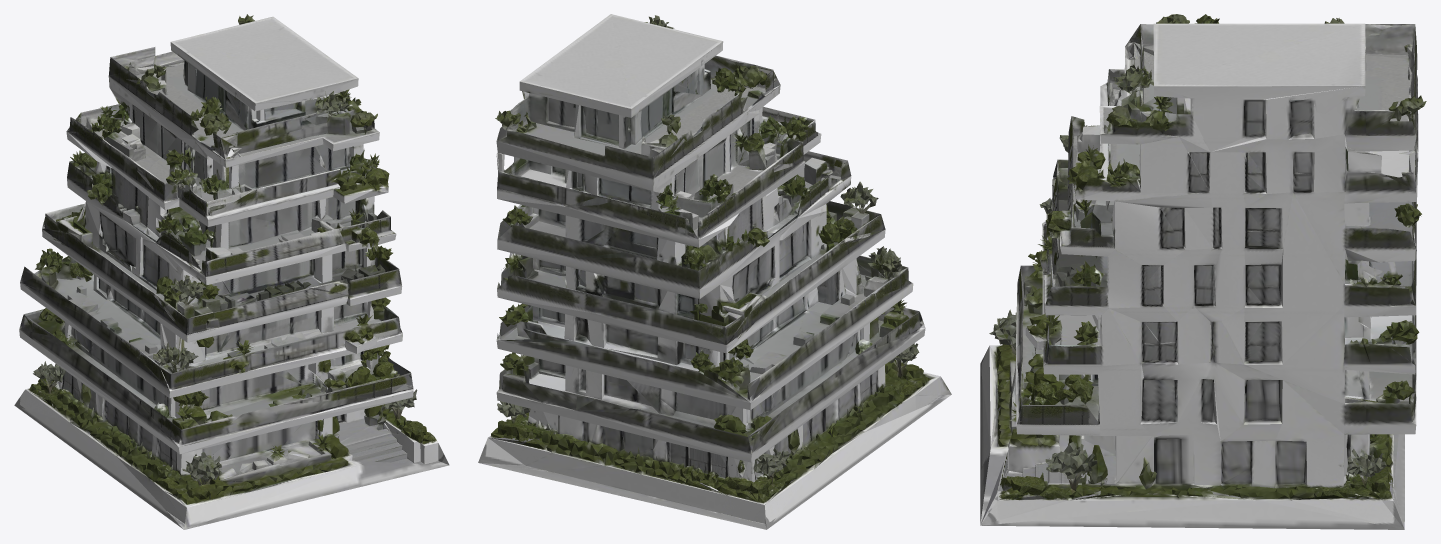
File: nexus-terrace-a.glb
3 renders of one model, left to right at view 1: azimuth 30°, elevation 25°; view 2: azimuth 150°, elevation 25°; view 3: azimuth 270°, elevation 25°, orthographic. The views are drawn at different scales.
Parts seen in each view (by area): view 1: output_unwrapped; view 2: output_unwrapped; view 3: output_unwrapped.
Boxes of the visible parts, x1=… form: output_unwrapped: x1=14, y1=14, x2=449, y2=529; output_unwrapped: x1=478, y1=14, x2=951, y2=529; output_unwrapped: x1=980, y1=14, x2=1426, y2=529.
Size of the model in its own units: 12.47 by 15.4 by 14.43.
1 material, 1 textured.
